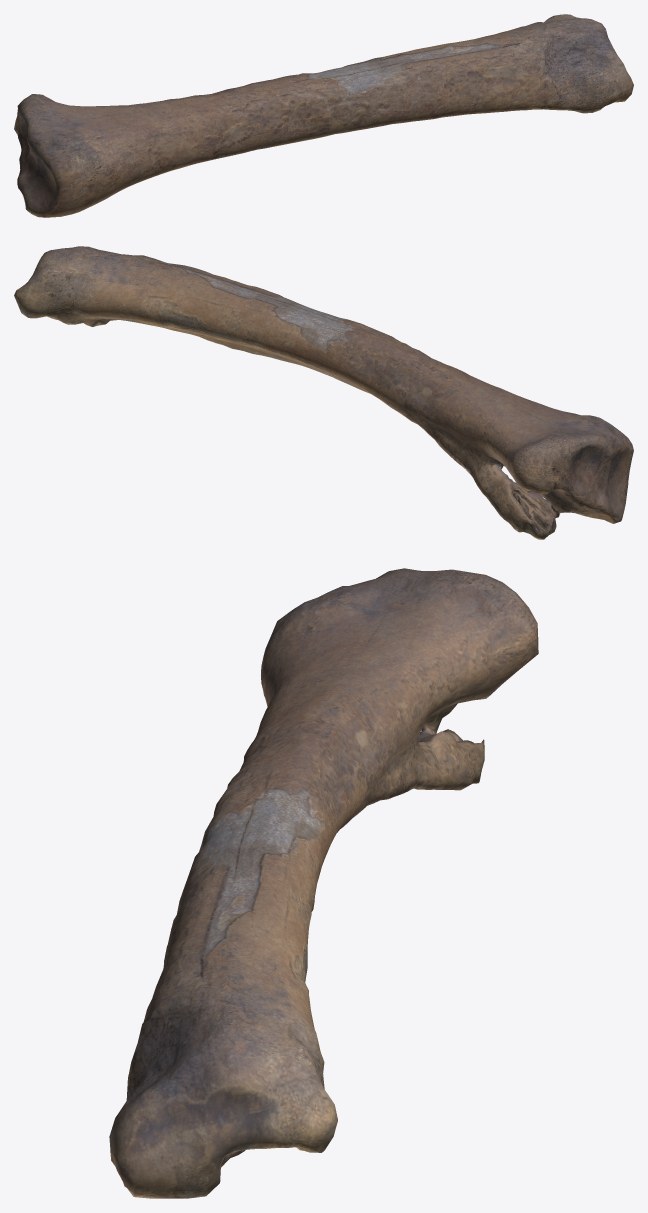
The model's file is horse_bone.glb.
3 views of the same model, one above another, from view 1: azimuth 30°, elevation 25°; view 2: azimuth 150°, elevation 25°; view 3: azimuth 270°, elevation 25° (orthographic). The views are drawn at different scales.
Parts seen in each view (by area): view 1: Object_2; view 2: Object_2; view 3: Object_2.
Boxes of the visible parts, left/top/right/bottom form: Object_2: left=14, top=14, right=633, bottom=217; Object_2: left=14, top=246, right=633, bottom=539; Object_2: left=109, top=568, right=538, bottom=1198.
Size of the model in its own units: 2.97 by 0.517 by 1.
Materials: 1 (1 with a texture image).
